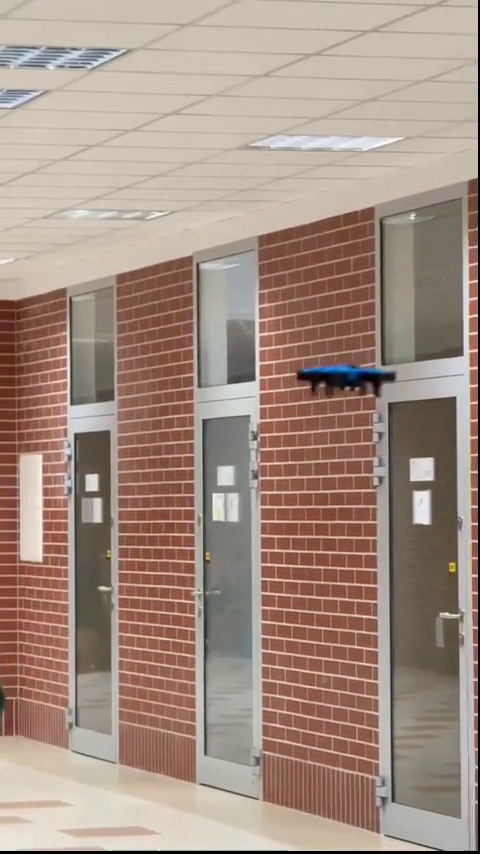drone: (293, 359, 397, 401)
